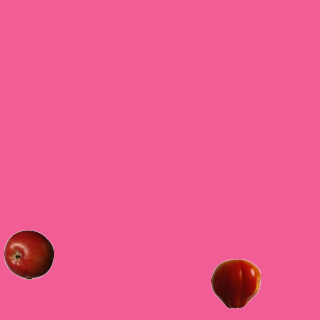Apple Braeburn: (3, 229, 53, 279)
Tomato 1: (210, 258, 260, 308)
